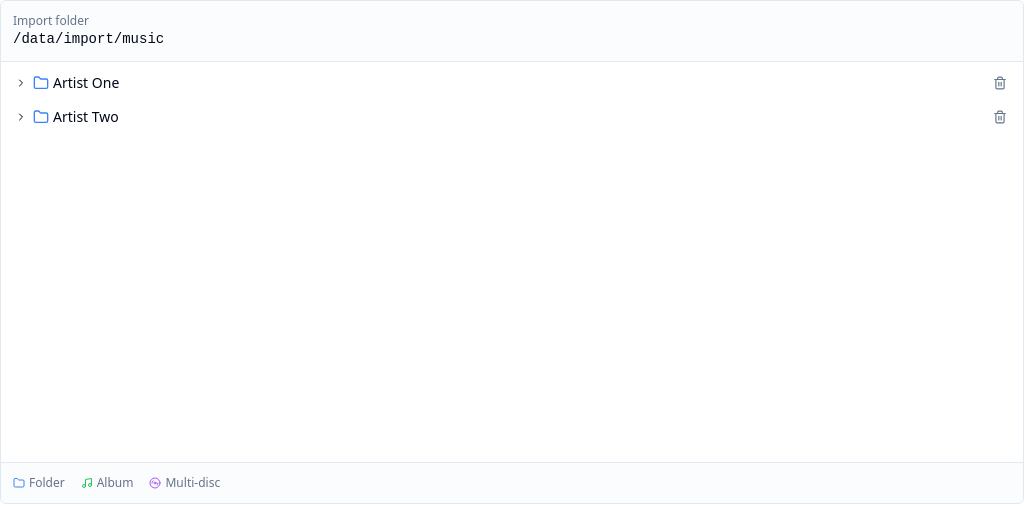
Scenario: ImportFolderTree › Expand/collapse functionality › should handle nested expansion correctly
The width and height of the screenshot is (1024, 521).
Expand "Artist One"
Click the 1st button named "expand": (21, 83) [13,75,29,91]
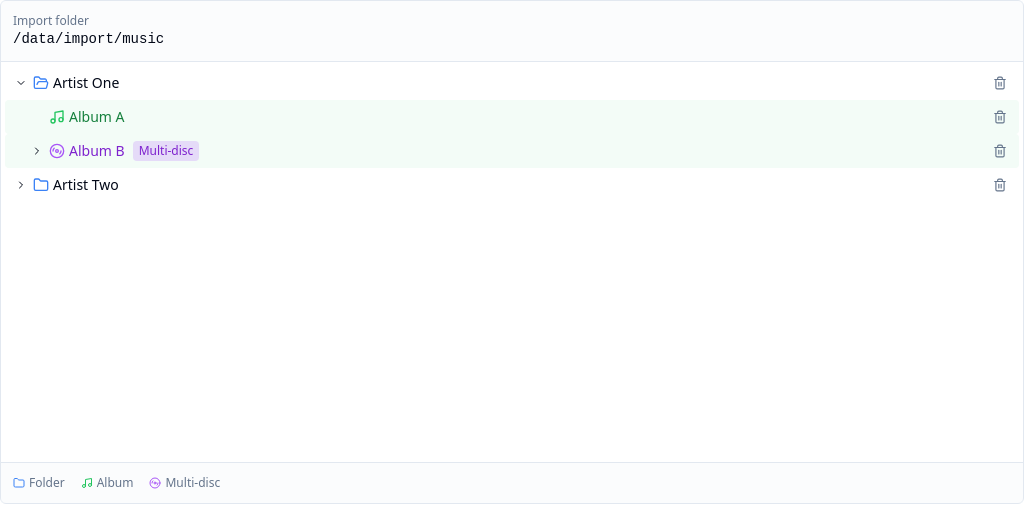
Now the button "Album B" is shown, box [69,141,125,161]
Click the 1st button named "expand": (37, 151) [29,143,45,159]
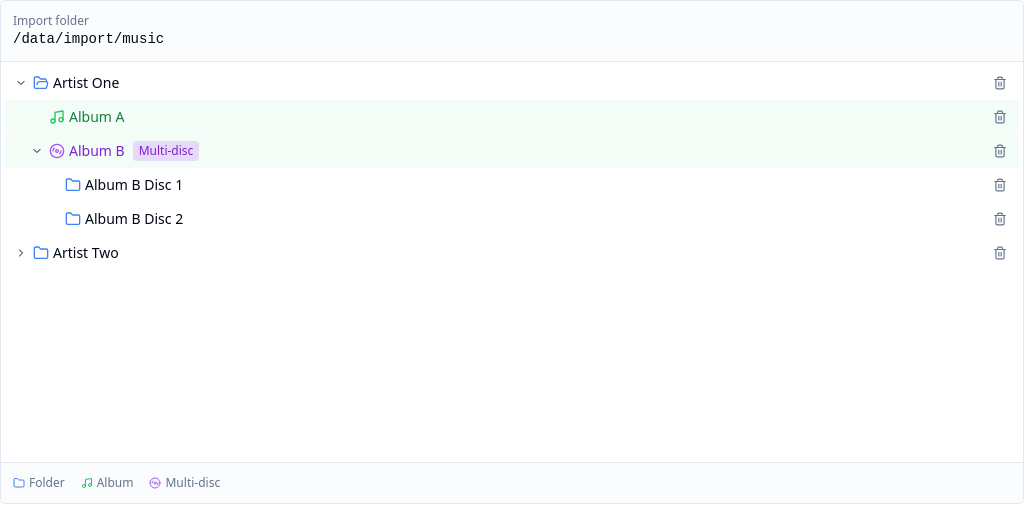
Now the button "Album B Disc 1" is shown, box [85,175,183,195]
Now the button "Album B Disc 2" is shown, box [85,209,183,229]
